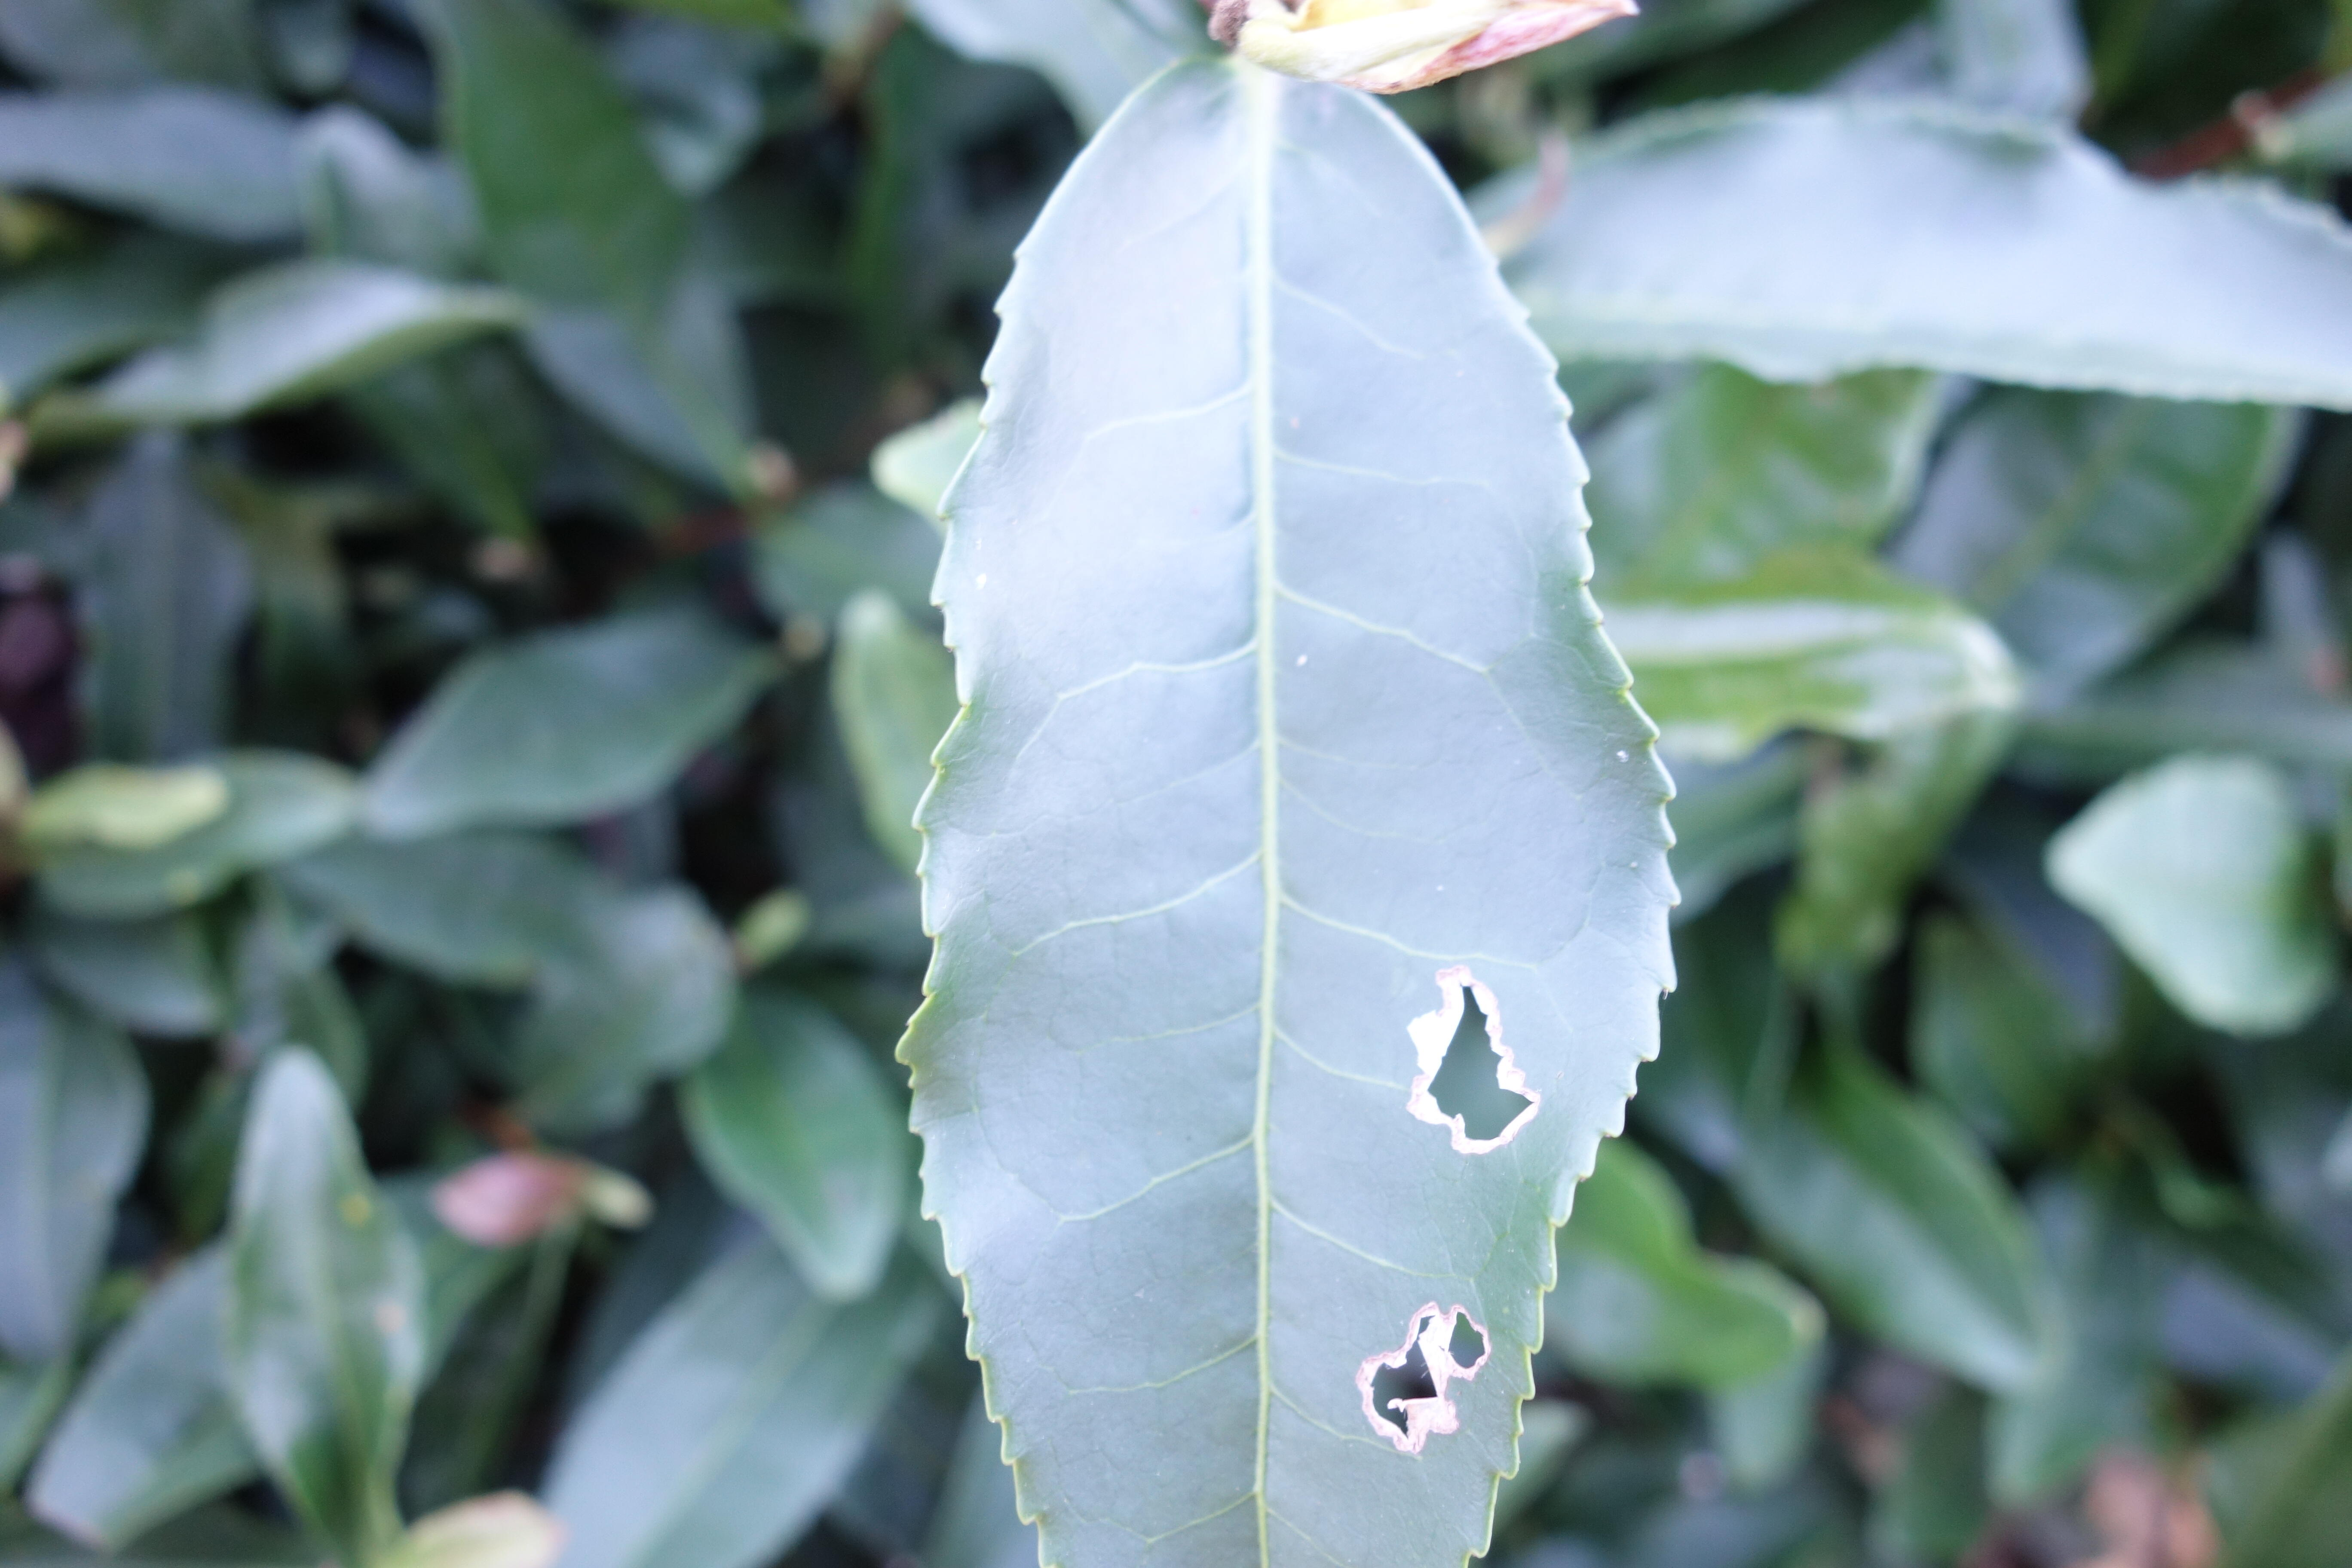chihuo_high: (898, 45, 1697, 1561)
